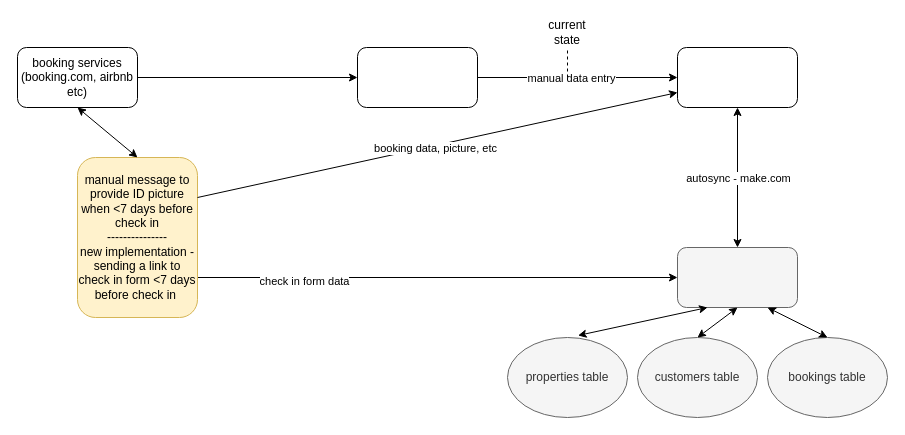
Image size: 905x435. Some labels were removed from this diagram. Here are the shapes that lost their labels. From the top down, the centre of each, then its label:
At (417,77): "amenitiz".
At (737,77): "google sheets - check in data table".
At (737,277): "postgre db - redis".
